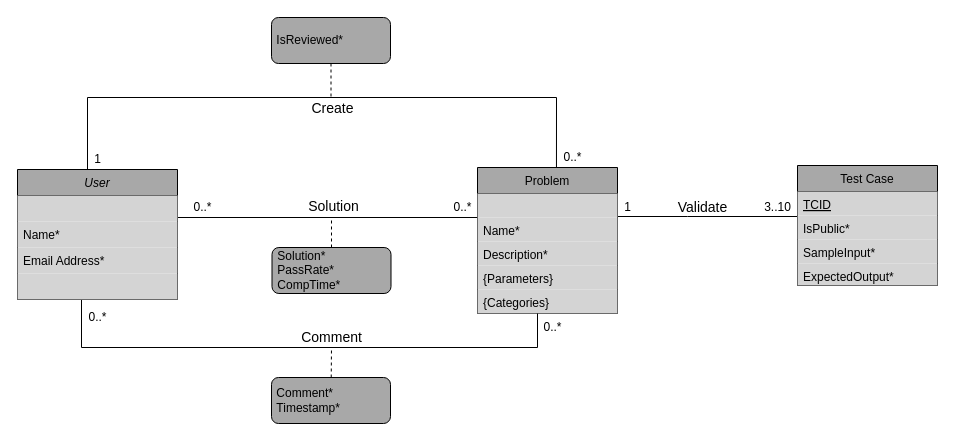
Image size: 955x441. Some labels were removed from this diagram. Each missing label, with the centre of its shape:
IsAdmin*: (x=97, y=286)
ProblemID: (x=547, y=205)
Username: (x=97, y=208)
